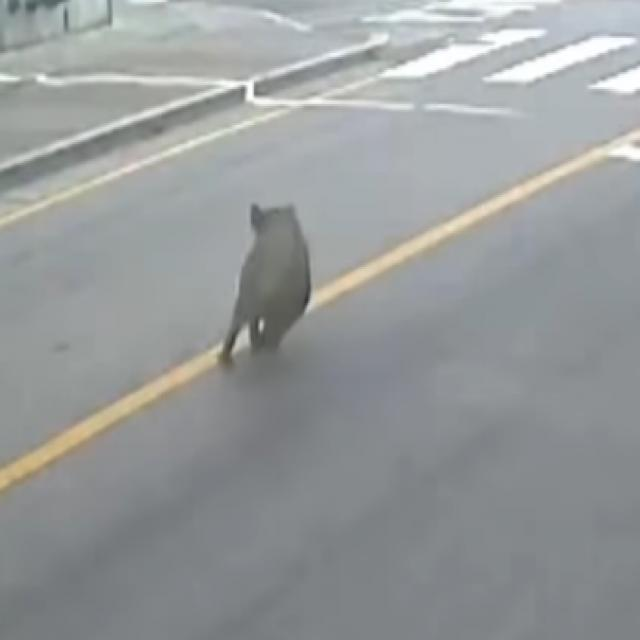boar: (201, 178, 349, 384)
